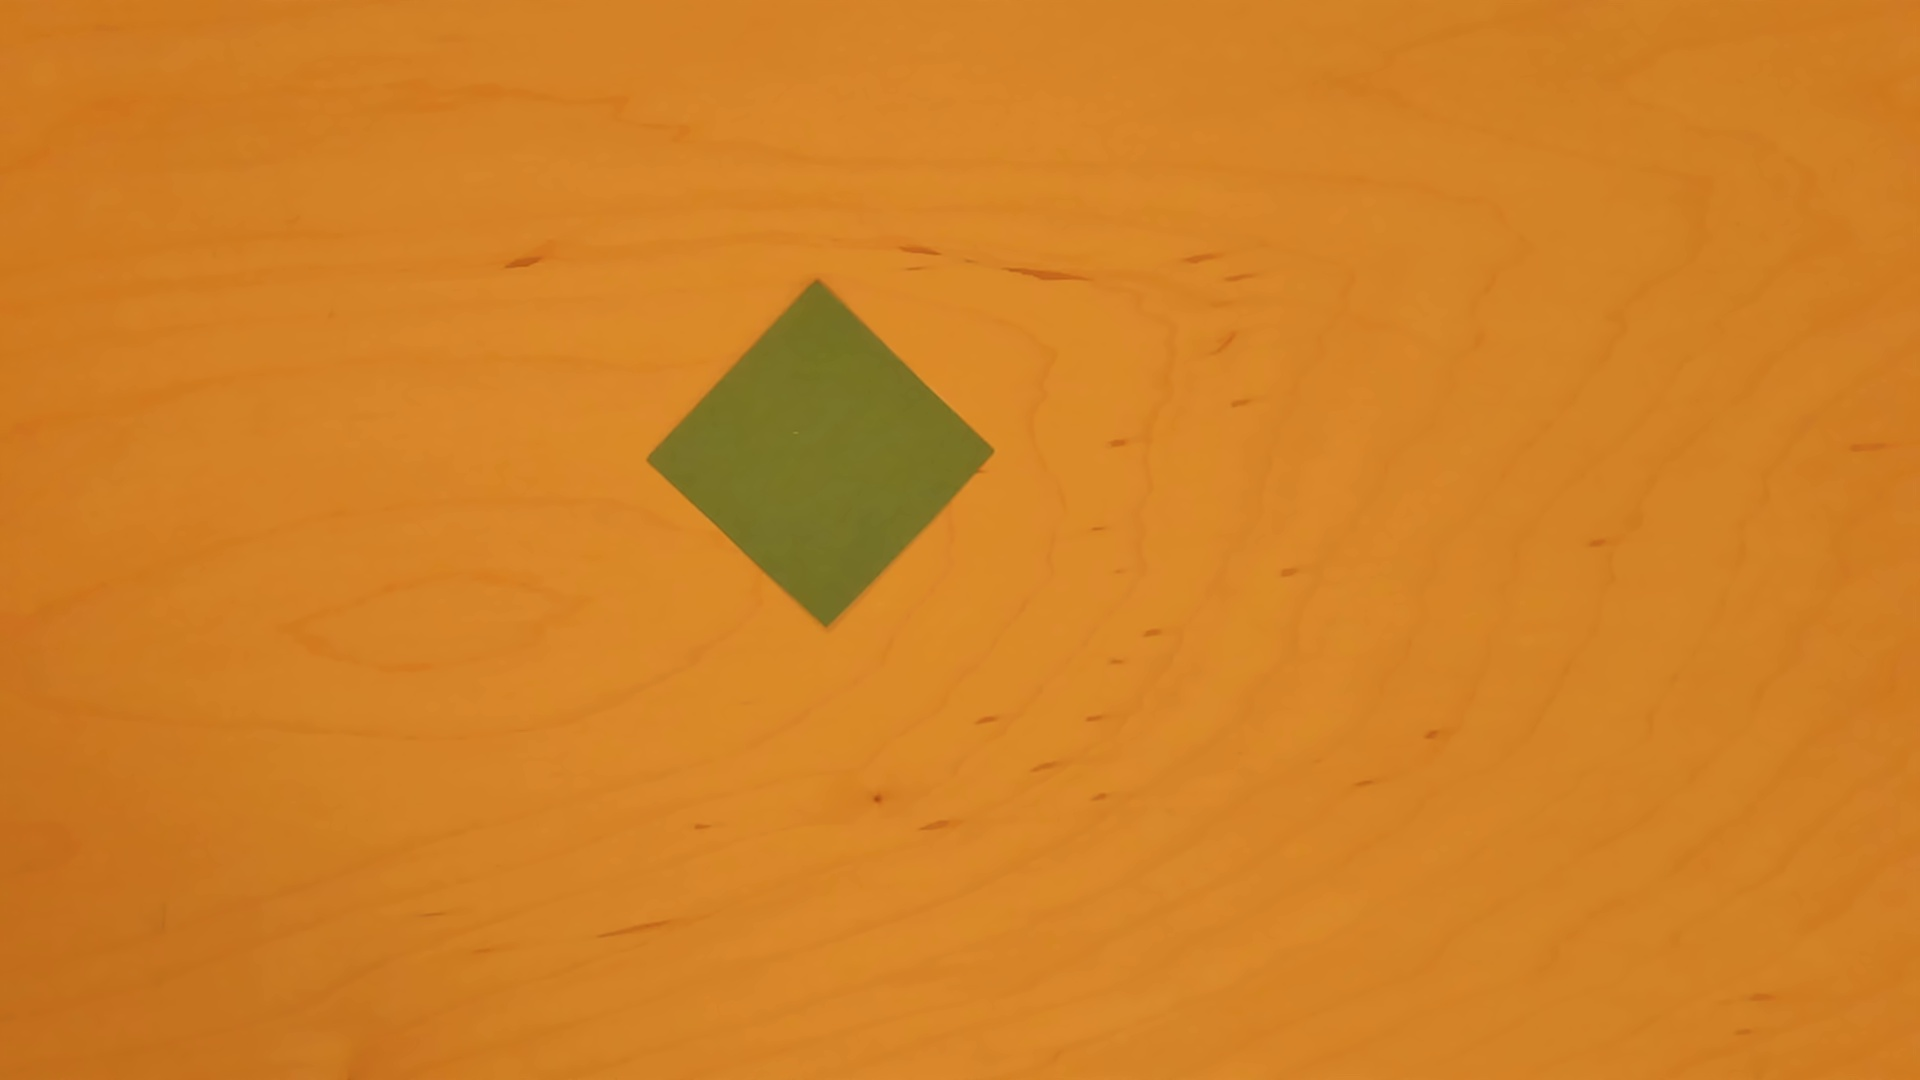GS: (636, 272, 1000, 636)
